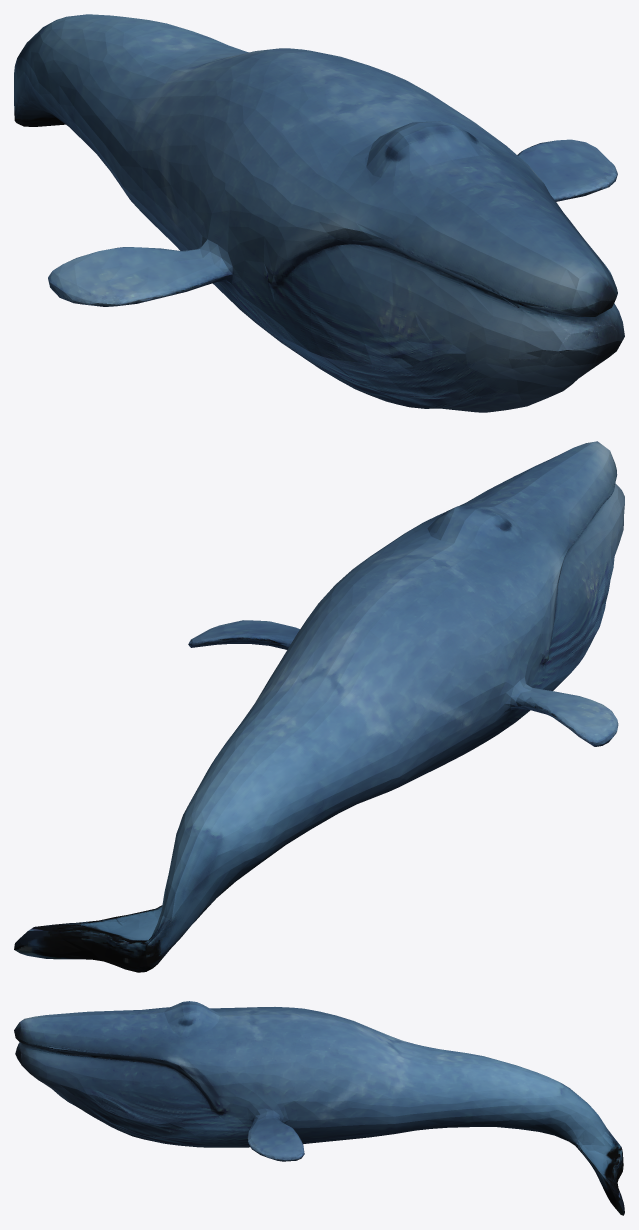
The picture shows the model from 3 angles, top to bottom: view 1: azimuth 30°, elevation 25°; view 2: azimuth 150°, elevation 25°; view 3: azimuth 270°, elevation 25°; orthographic projection. The views are drawn at different scales.
Parts seen in each view (by area): view 1: world; view 2: world; view 3: world.
Part boxes in pixels (box(x1,y1,x2,y2)): world: box(14, 14, 624, 412); world: box(14, 441, 624, 972); world: box(14, 1001, 624, 1215).
Size of the model in its own units: 0.5314 by 0.3025 by 1.
1 material, 1 textured.
